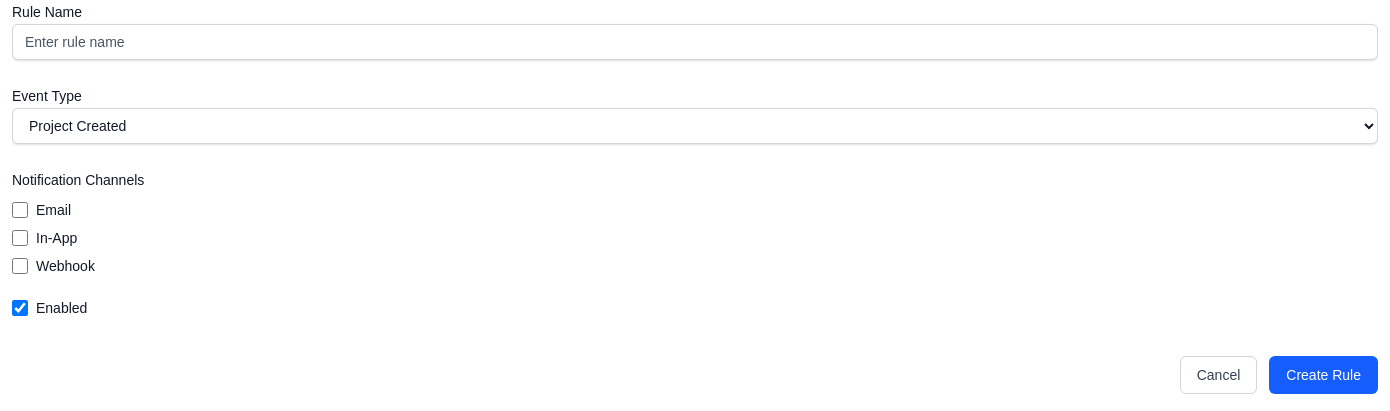
Scenario: NotificationRuleForm › should show loading state during submission
In the field labelled "Rule Name": (695, 42) [12, 24, 1378, 60], type "Test"
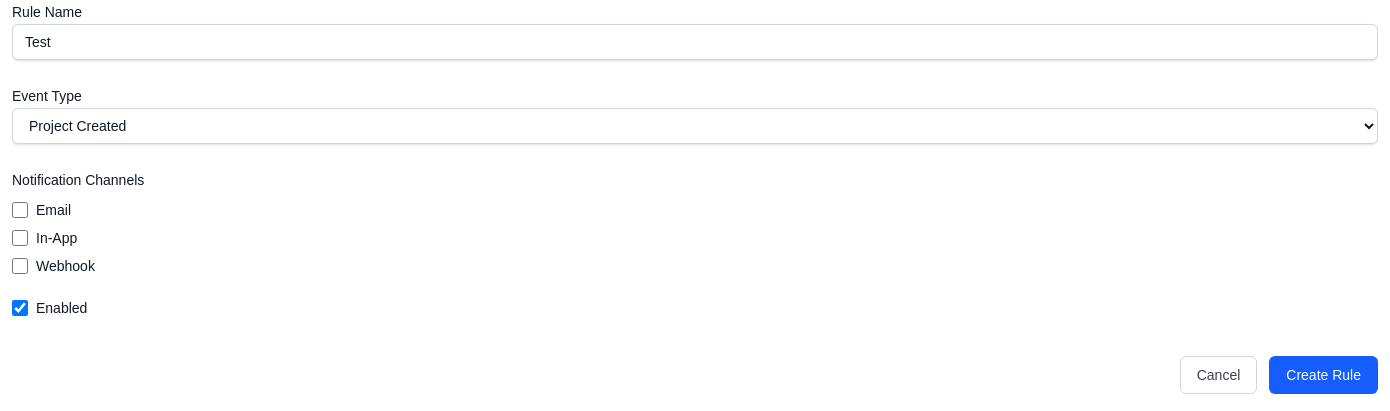
Click the checkbox labelled "Email": click(20, 210) [12, 202, 28, 218]
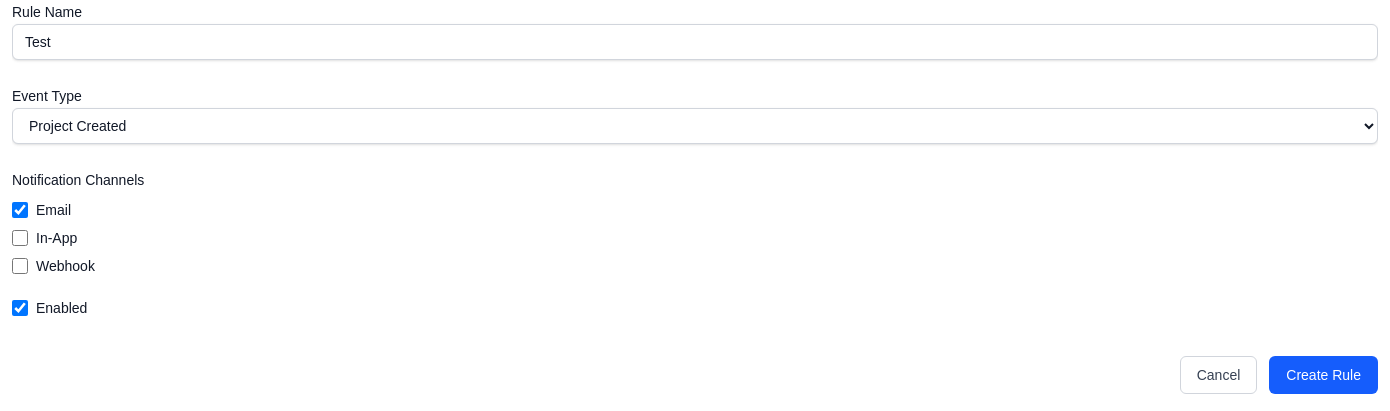
Click the button "Create Rule": click(1324, 375) [1269, 356, 1378, 394]
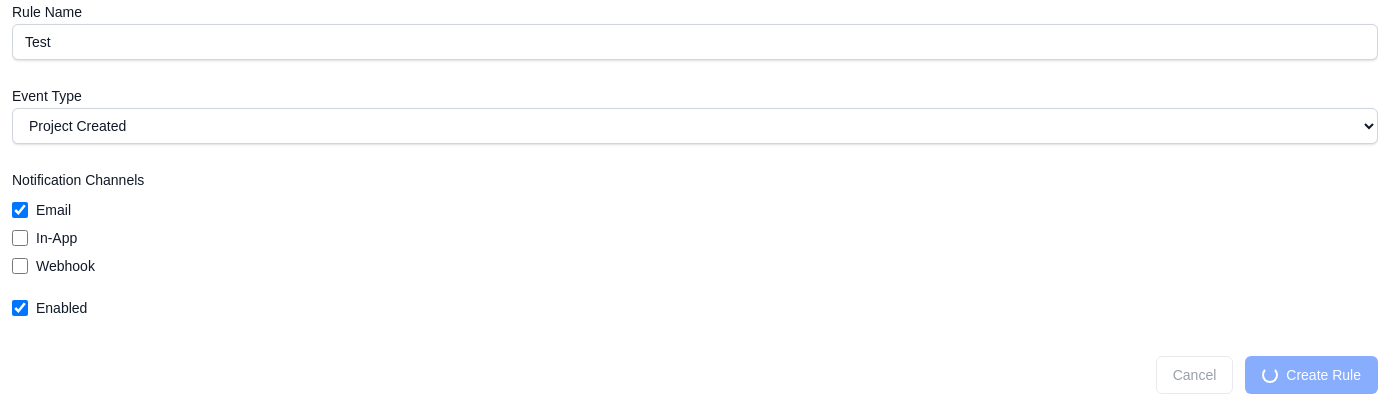
Expected: the button "Create Rule" is disabled, [1245, 356, 1378, 394]
